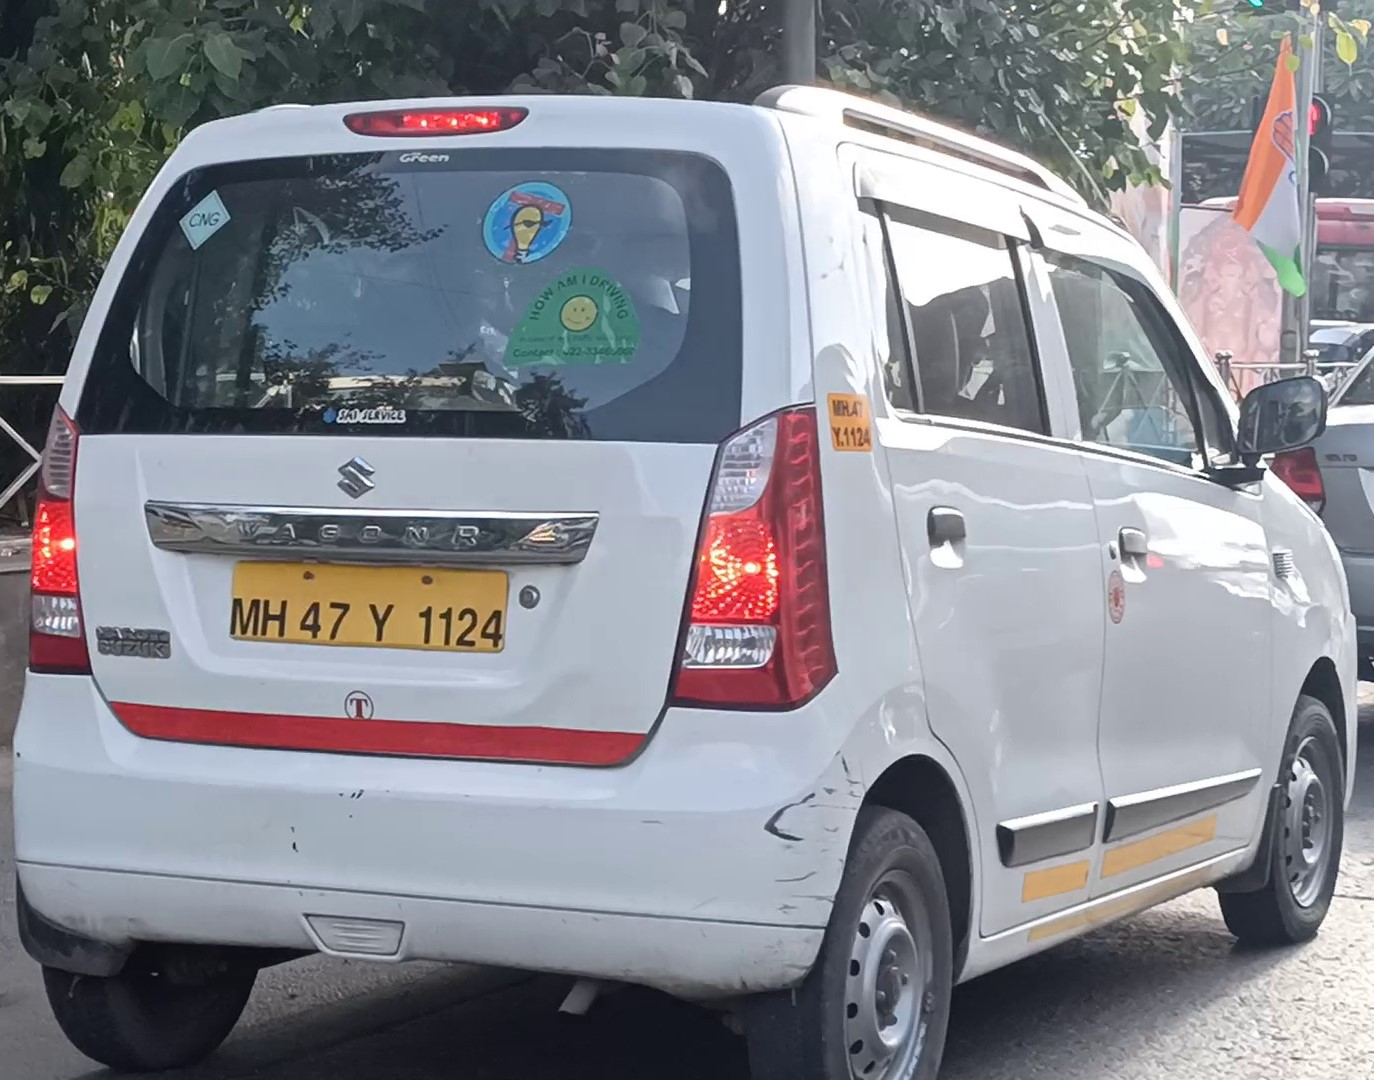MH47Y1124: (230, 564, 511, 650)
